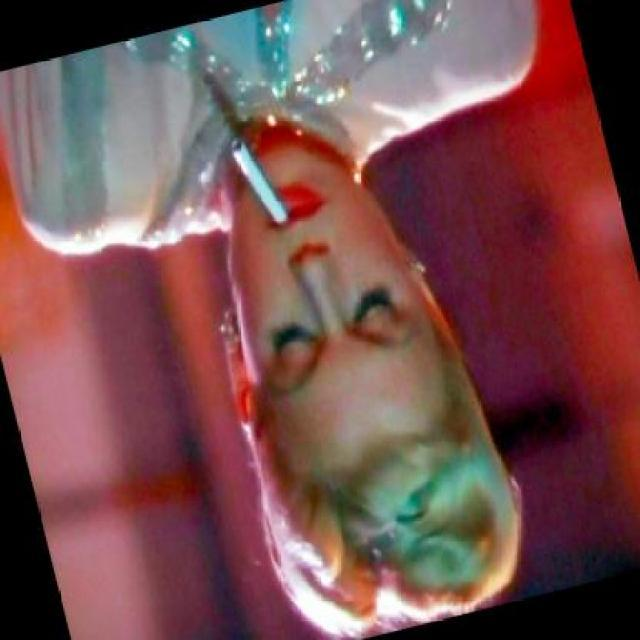smoke: (223, 125, 291, 230)
